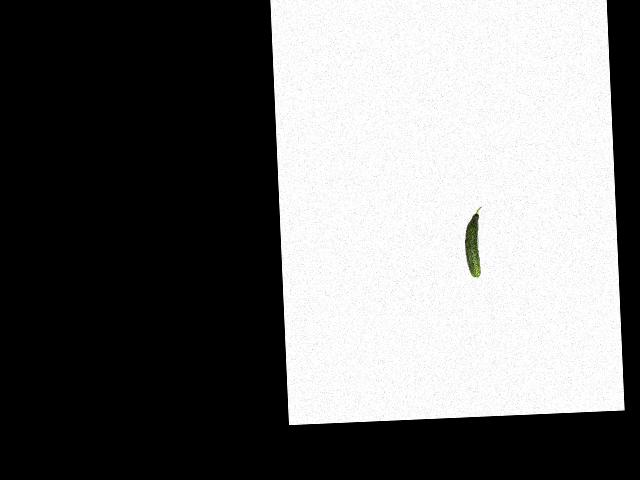cucumber: (463, 206, 484, 277)
